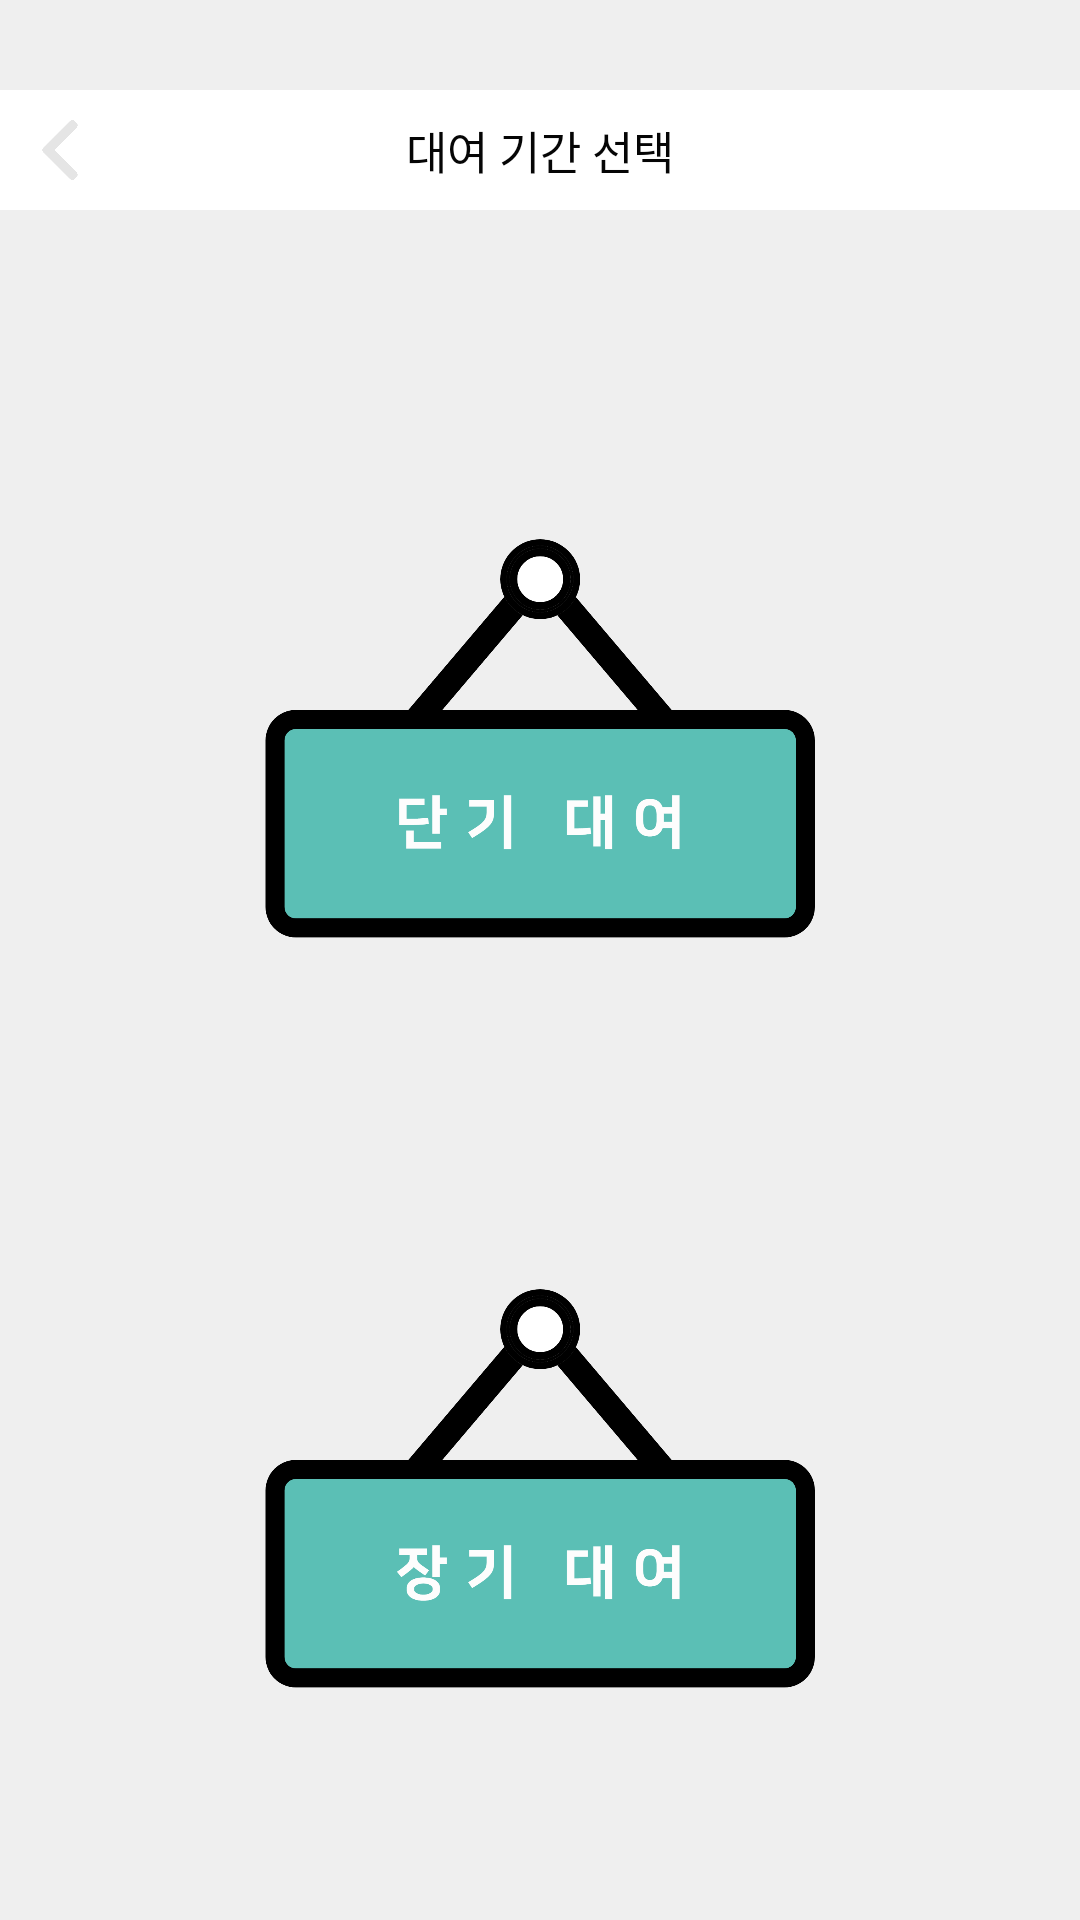

Point at icon controls on the screen. Image size 1080px x 1920px, points as (x,y).
left arrow: (60,150)
